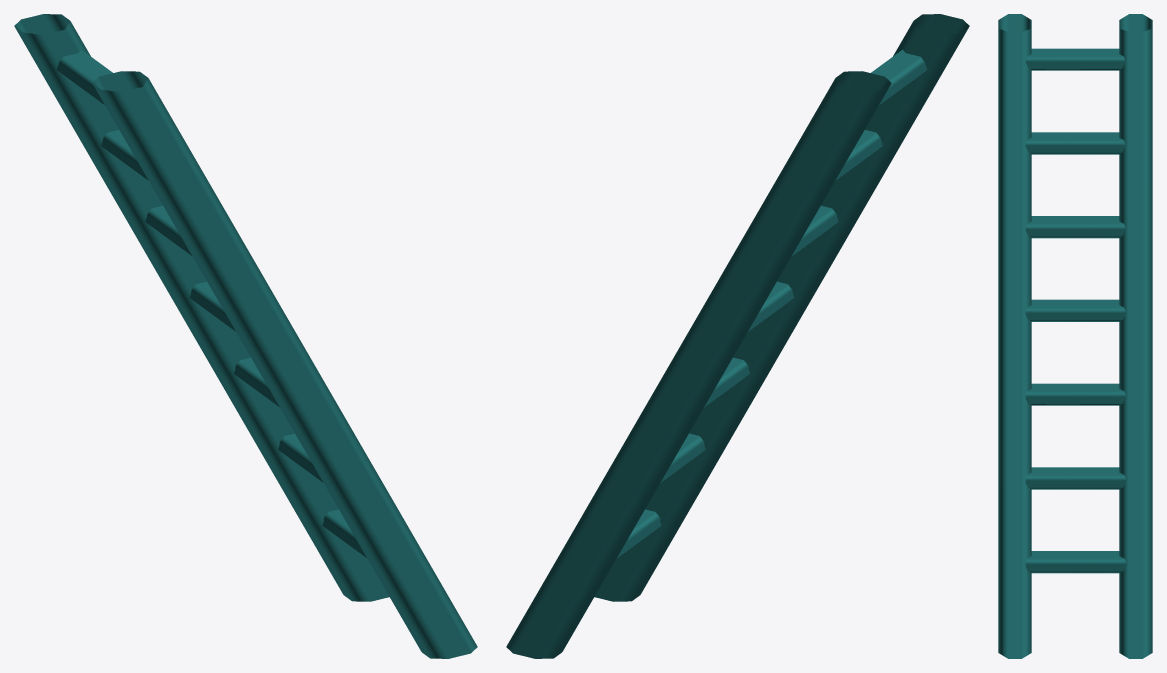
Rendered from SM_Stairs_Balcony.fbx.
3 views of the same model, side by side, from view 1: azimuth 30°, elevation 25°; view 2: azimuth 150°, elevation 25°; view 3: azimuth 270°, elevation 25° (orthographic). The views are drawn at different scales.
Parts seen in each view (by area): view 1: Object024; view 2: Object024; view 3: Object024.
Boxes of the visible parts, x1,y1,x2,y2 form: Object024: (14,14,477,658); Object024: (506,14,969,658); Object024: (998,14,1152,658).
Size of the model in its own units: 174 by 287 by 79.77.
